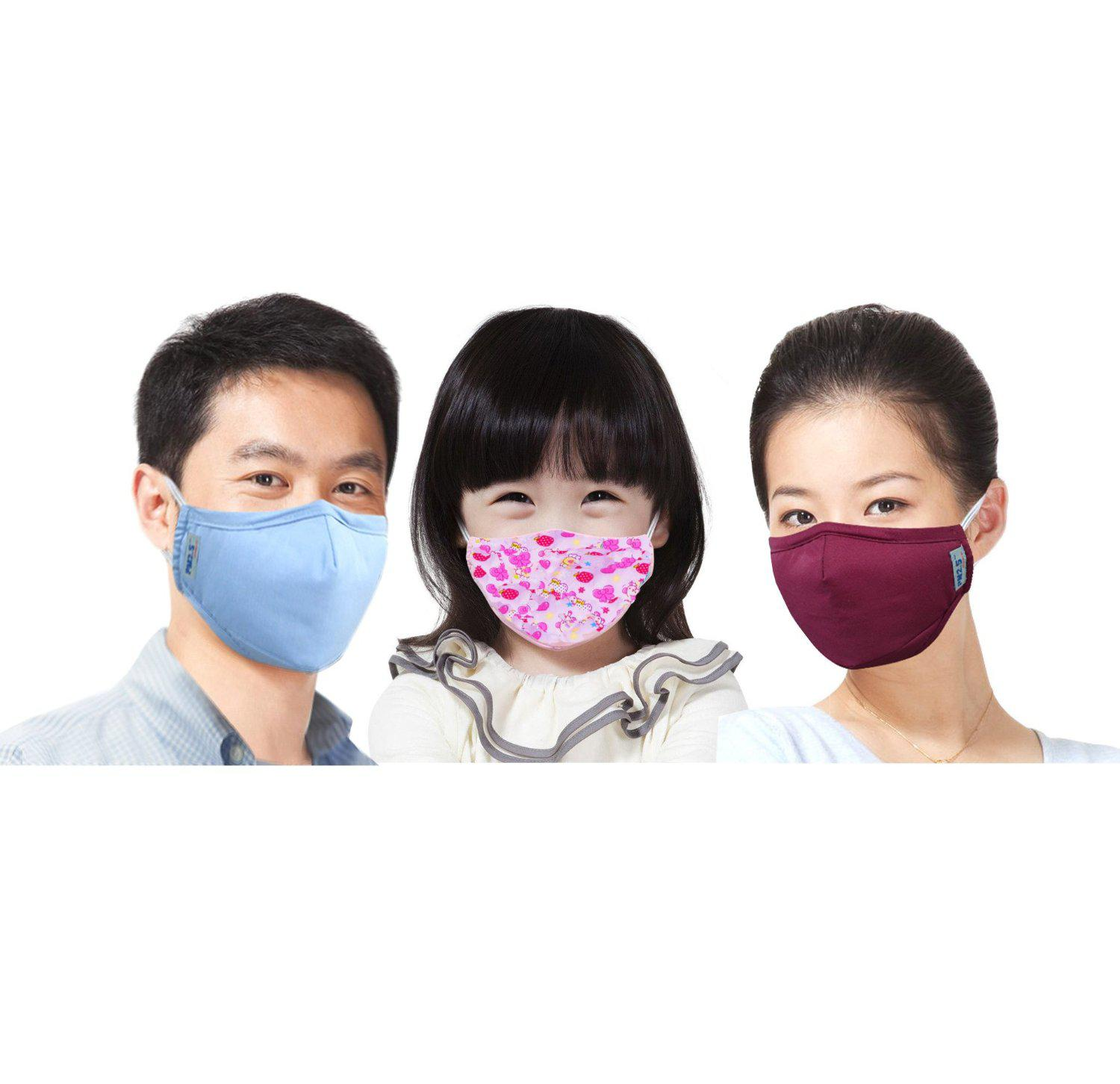OK: (187, 434, 426, 672), (760, 465, 964, 669), (455, 454, 650, 649)
